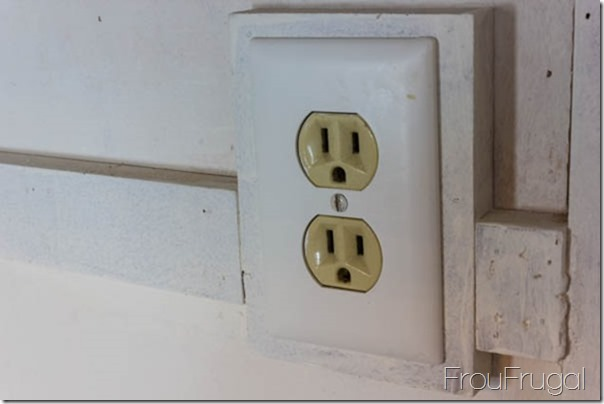outlet: (310, 119, 367, 188), (317, 223, 373, 287)
